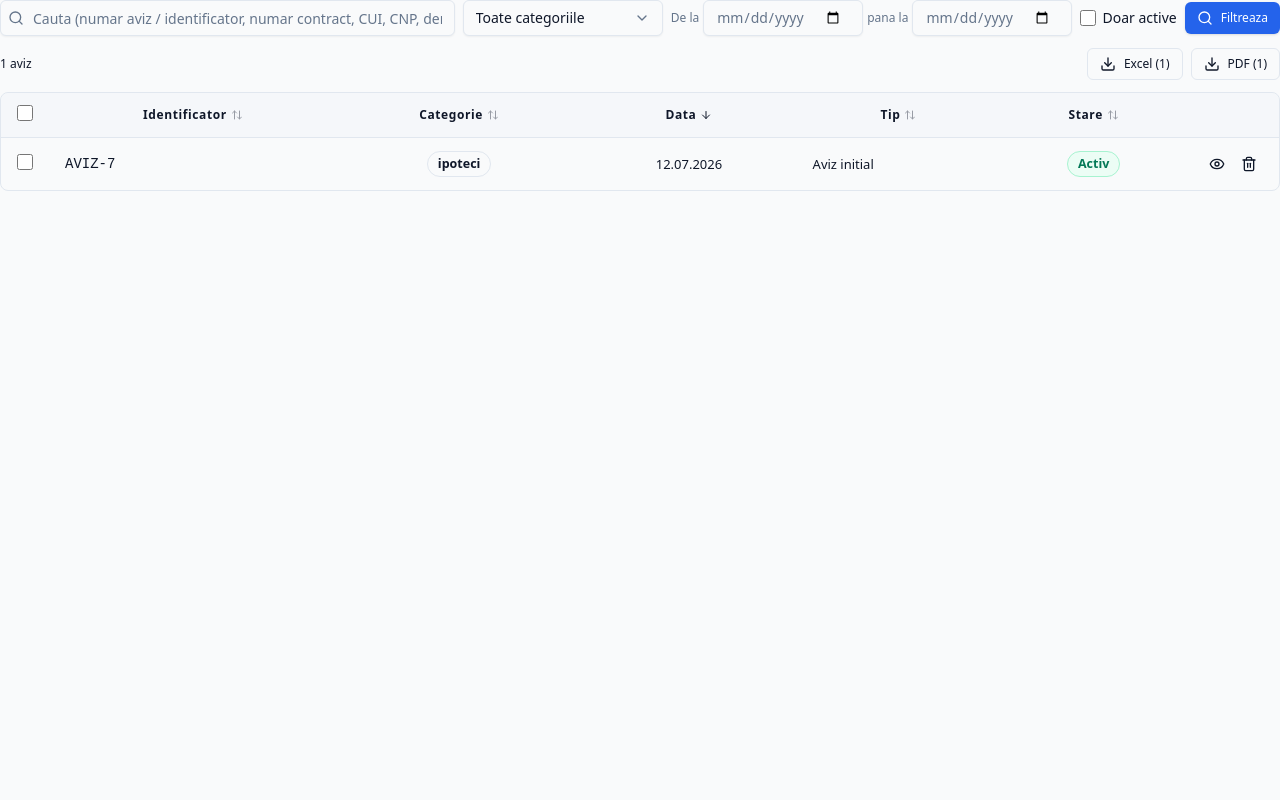
RnpmSavedData - autocompact dupa delete-batch › compacted=false afiseaza avertismentul de eliberare a spatiului
This screenshot has width=1280, height=800.
Click the 3rd checkbox at (25, 162), box x1=17 y1=154 x2=33 y2=170
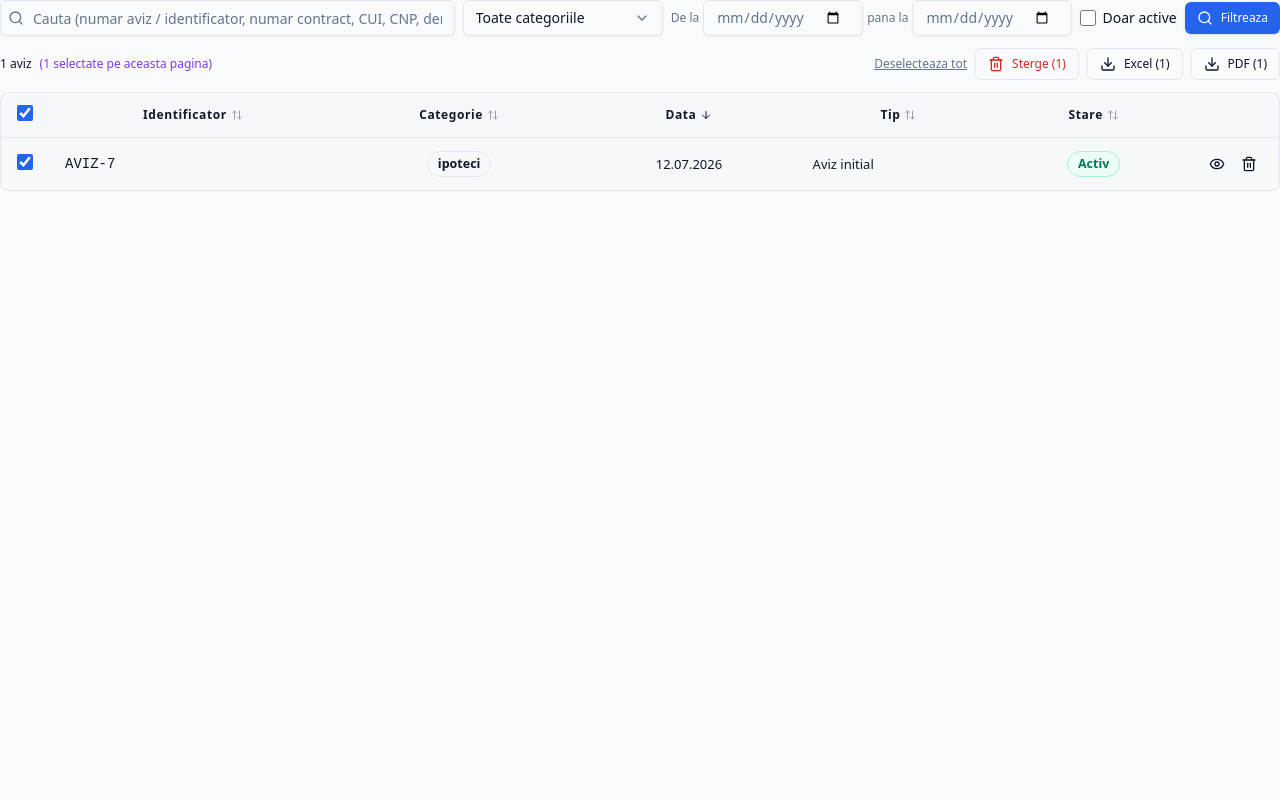
Click the button "Sterge (1)" at (1027, 64), box x1=975 y1=48 x2=1079 y2=80
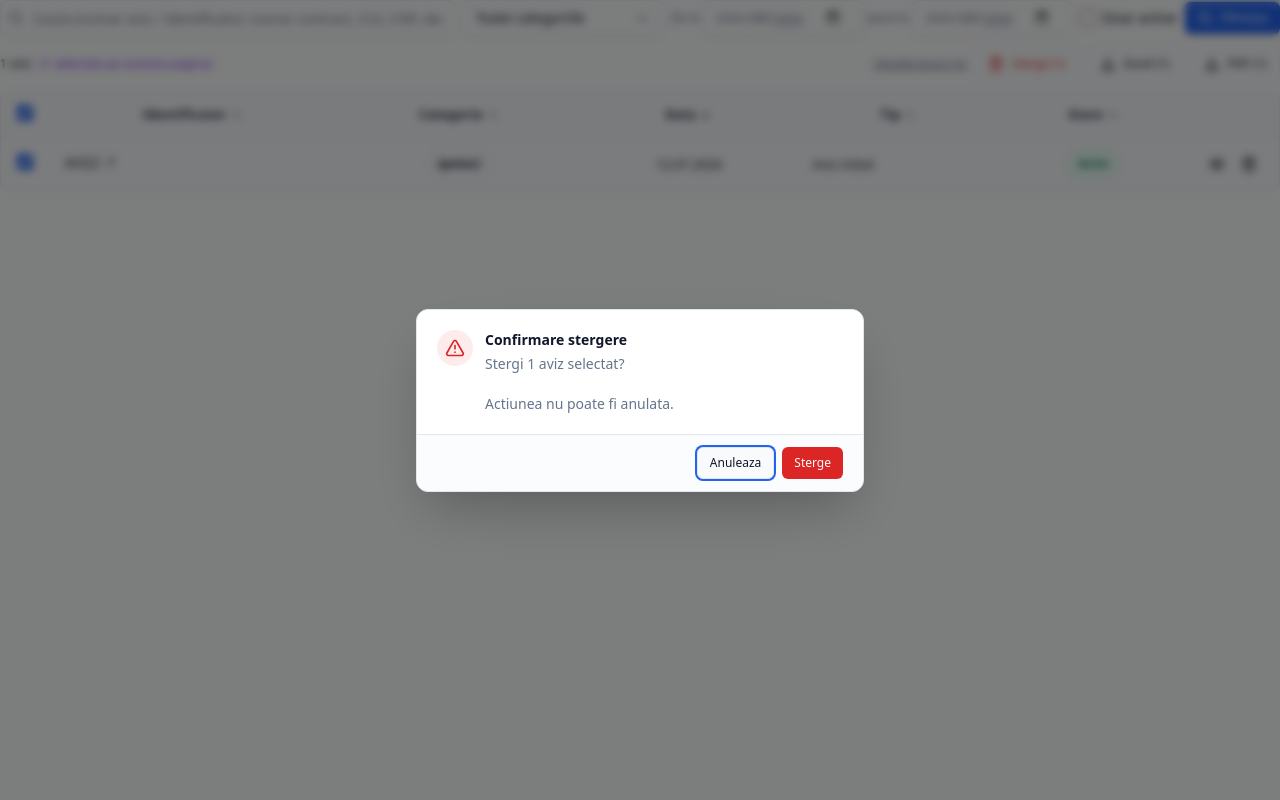
Click the button "Sterge" at (813, 462), box x1=782 y1=446 x2=843 y2=478
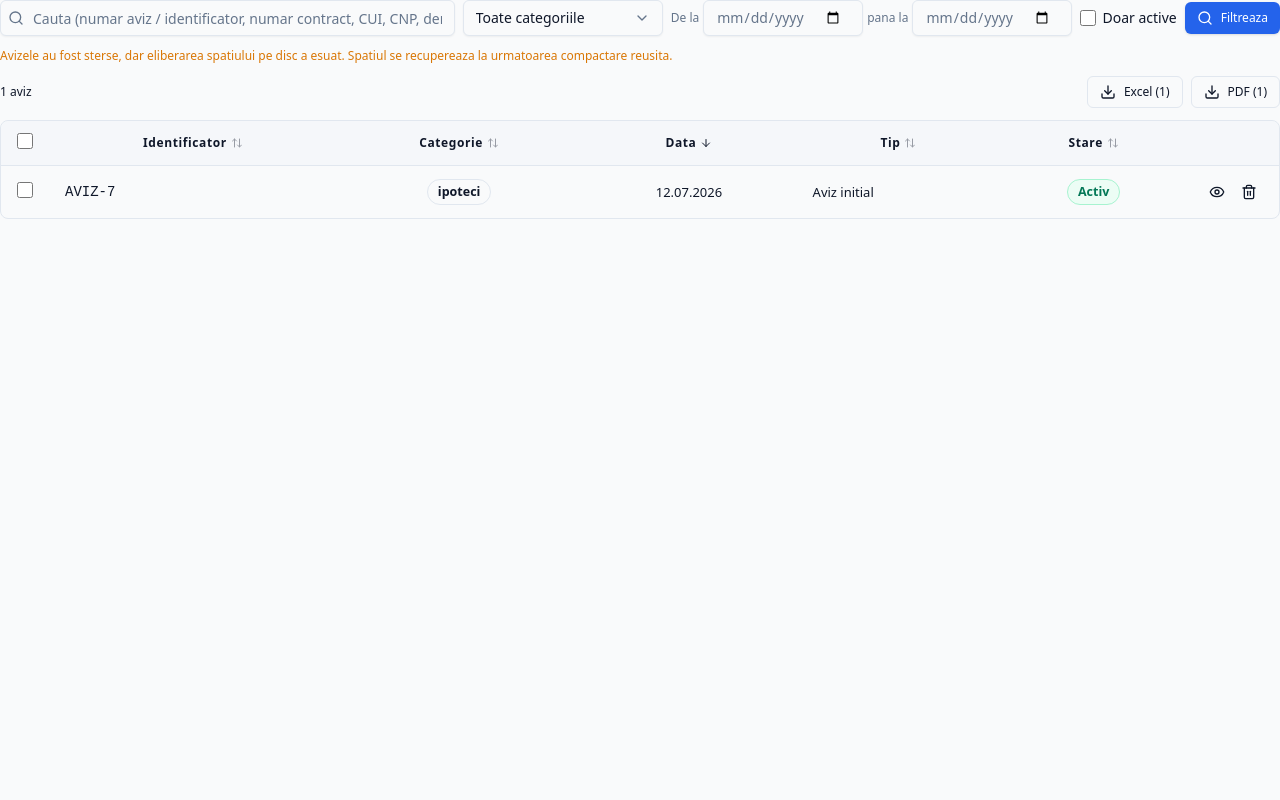
Now the text "Avizele au fost sterse, dar eliberarea spatiului pe disc a esuat. Spatiul se recupereaza la urmatoarea compactare reusita." is shown, box x1=0 y1=47 x2=672 y2=64
